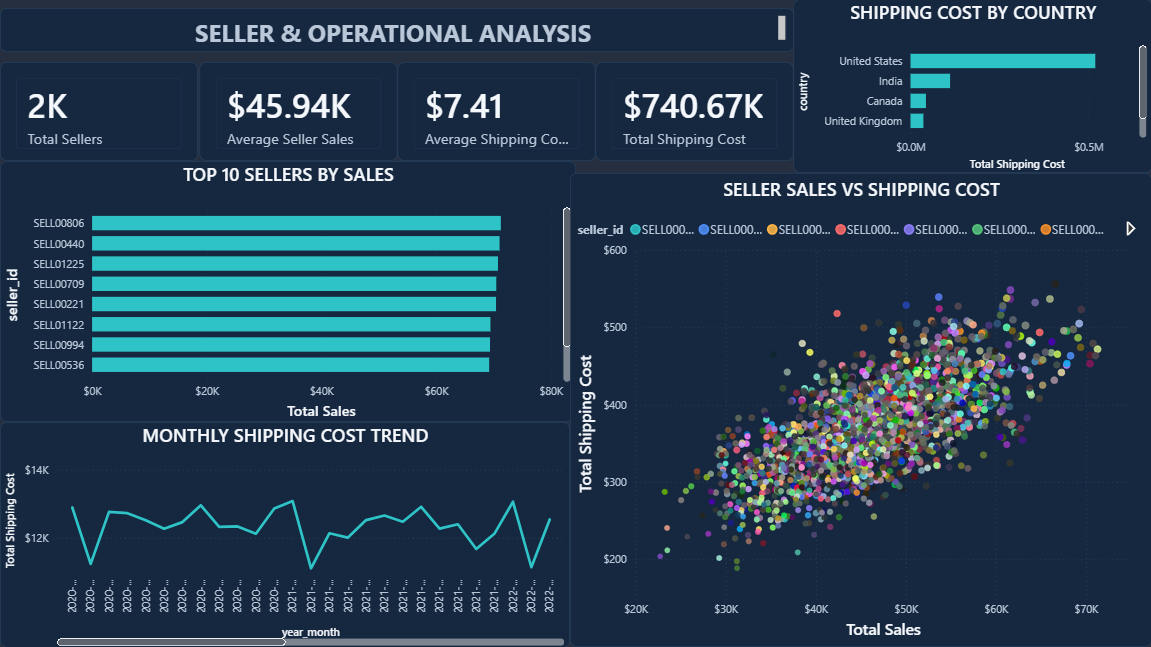

This screenshot's page, from the dashboard's own definition file:
{"tool":"powerbi","page":{"name":"Seller & Operational Analysis","canvas":[1280,720],"ordinal":3},"visuals":[{"type":"textbox","box":[0,10,881.7,48.3],"z":0},{"type":"cardVisual","fields":{"Data":["ecommerce amazon_sales.Total Sellers"]},"box":[0,70,220,110],"z":1000},{"type":"cardVisual","fields":{"Data":["ecommerce amazon_sales.Average Seller Sales"]},"box":[221.8,69.6,220,110],"z":2000},{"type":"cardVisual","fields":{"Data":["ecommerce amazon_sales.Average Shipping Cost"]},"box":[442,69.6,220,110],"z":3000},{"type":"cardVisual","fields":{"Data":["ecommerce amazon_sales.Total Shipping Cost"]},"box":[662.3,69.6,220,110],"z":4000},{"type":"lineChart","title":"MONTHLY SHIPPING COST TREND","fields":{"Category":["ecommerce amazon_sales.year_month"],"Y":["ecommerce amazon_sales.Total Shipping Cost"]},"box":[0,469.6,633.1,251],"z":5000},{"type":"clusteredBarChart","title":"SHIPPING COST BY COUNTRY","fields":{"Category":["ecommerce amazon_sales.country"],"Y":["ecommerce amazon_sales.Total Shipping Cost"]},"box":[881.7,0,398.3,193.3],"z":6000},{"type":"clusteredBarChart","title":"TOP 10 SELLERS BY SALES","fields":{"Category":["ecommerce amazon_sales.seller_id"],"Y":["ecommerce amazon_sales.Total Sales"]},"box":[0,180,640,290],"z":7000},{"type":"scatterChart","title":"SELLER SALES VS SHIPPING COST","fields":{"Y":["ecommerce amazon_sales.Total Shipping Cost"],"Size":["ecommerce amazon_sales.Total Orders"],"X":["ecommerce amazon_sales.Total Sales"],"Series":["ecommerce amazon_sales.seller_id"],"Category":["ecommerce amazon_sales.seller_id"]},"box":[633.3,193.3,646.7,526.7],"z":8000}]}

Visuals, with their boxes in screenshot pixels (x1, y1, x2, y2), scaled from the page's 1280x720 canvas onto the 1151x647 screenshot:
textbox: Rect(0, 9, 793, 52)
cardVisual - ecommerce amazon_sales.Total Sellers: Rect(0, 63, 198, 162)
cardVisual - ecommerce amazon_sales.Average Seller Sales: Rect(199, 63, 397, 161)
cardVisual - ecommerce amazon_sales.Average Shipping Cost: Rect(397, 63, 595, 161)
cardVisual - ecommerce amazon_sales.Total Shipping Cost: Rect(596, 63, 793, 161)
"MONTHLY SHIPPING COST TREND" lineChart: Rect(0, 422, 569, 646)
"SHIPPING COST BY COUNTRY" clusteredBarChart: Rect(793, 0, 1150, 174)
"TOP 10 SELLERS BY SALES" clusteredBarChart: Rect(0, 162, 576, 422)
"SELLER SALES VS SHIPPING COST" scatterChart: Rect(569, 174, 1150, 646)
